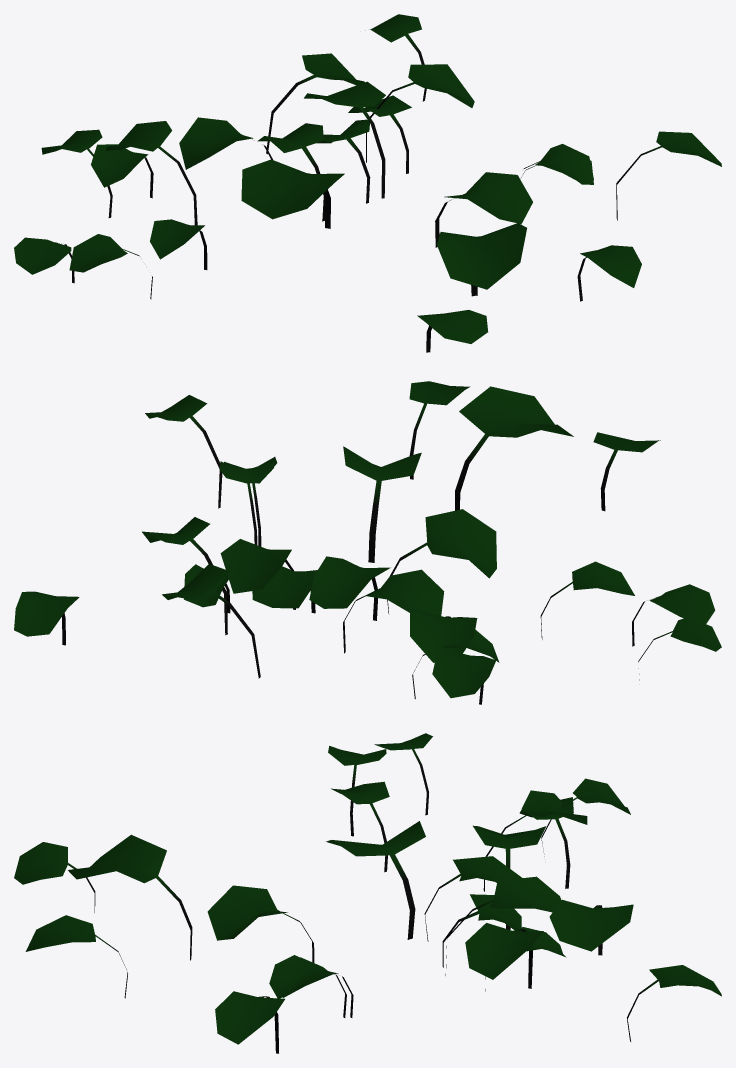
The model's file is GroundIviGCATA_Dense_C.fbx.
3 renders of one model, top to bottom at view 1: azimuth 30°, elevation 25°; view 2: azimuth 150°, elevation 25°; view 3: azimuth 270°, elevation 25°, orthographic. The views are drawn at different scales.
Parts seen in each view (by area): view 1: GIGCATADC_LOD0; view 2: GIGCATADC_LOD0; view 3: GIGCATADC_LOD0.
Part boxes in pixels (bbox=[...]): GIGCATADC_LOD0: bbox=[14, 14, 721, 352]; GIGCATADC_LOD0: bbox=[14, 381, 721, 704]; GIGCATADC_LOD0: bbox=[14, 733, 721, 1053].
Size of what is drawn, in the model's own units: 1.81 by 0.2699 by 1.73.
